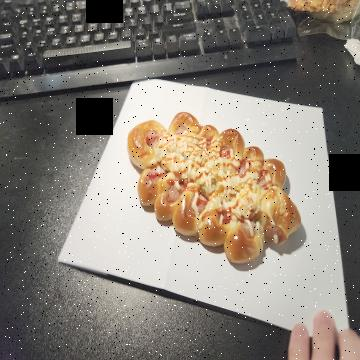pizza_bread: (129, 110, 302, 264)
